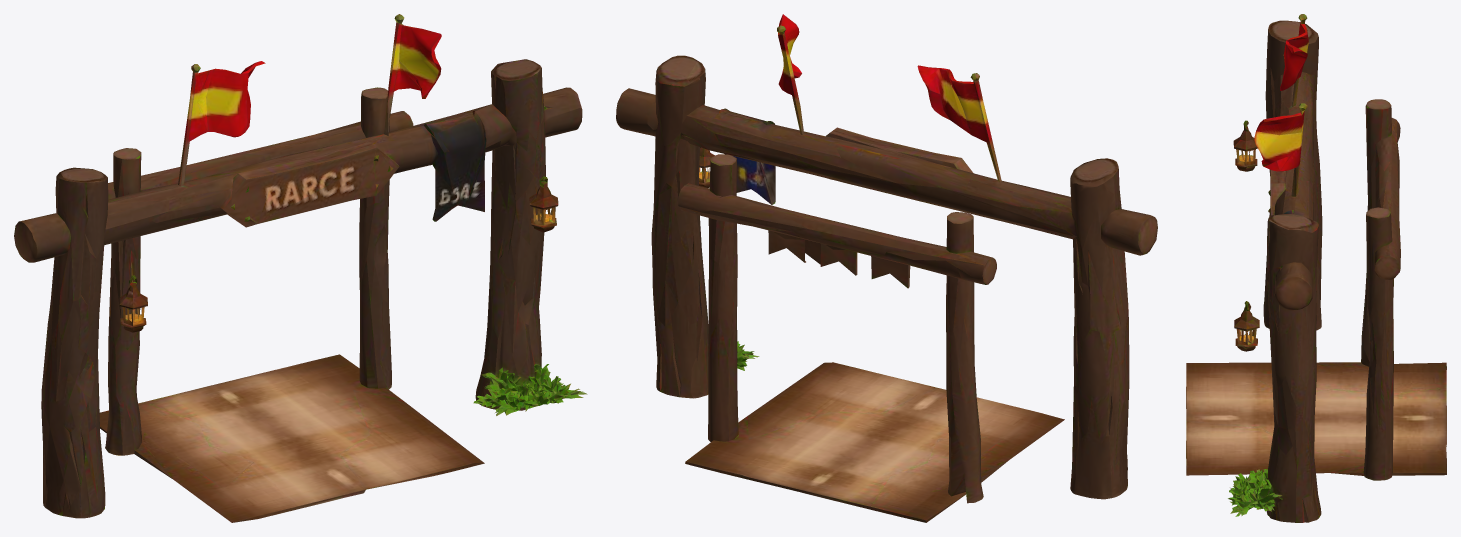
The model's file is start-line.lod.glb.
3 views of the same model, side by side, from view 1: azimuth 30°, elevation 25°; view 2: azimuth 150°, elevation 25°; view 3: azimuth 270°, elevation 25° (orthographic). The views are drawn at different scales.
Size of the model in its own units: 1.9 by 1.33 by 0.866.
1 material, 1 textured.
